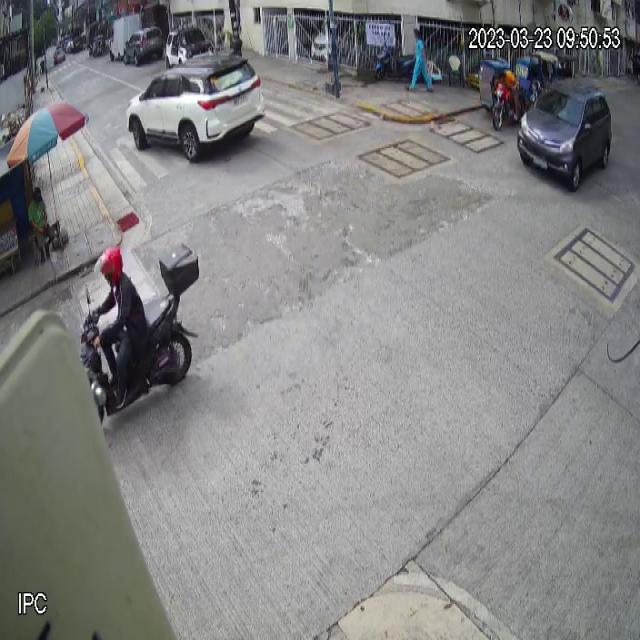Car: (126, 52, 266, 162), (517, 77, 612, 192)
Motorcycle: (80, 240, 200, 420)
Tricycle: (478, 58, 526, 132)
